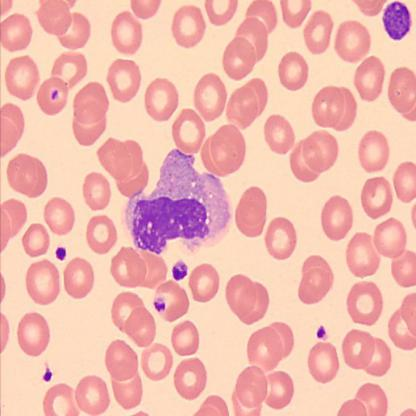Monocyte: (123, 146, 232, 258), (380, 1, 413, 42)
